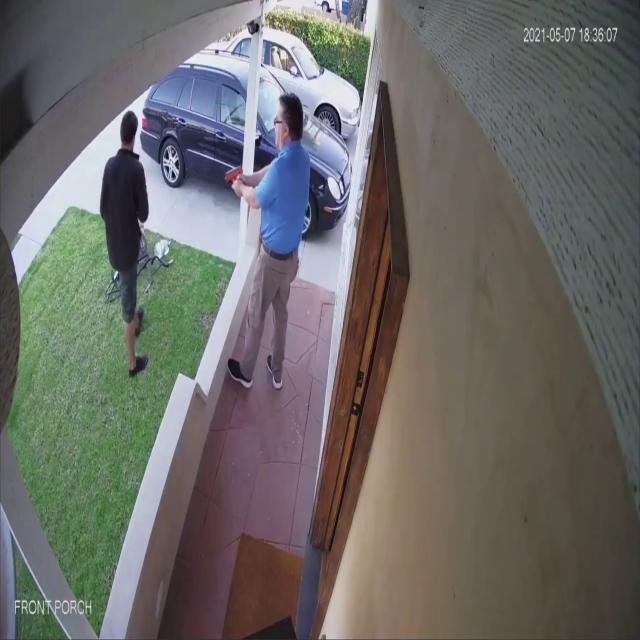gun: (223, 164, 244, 198)
